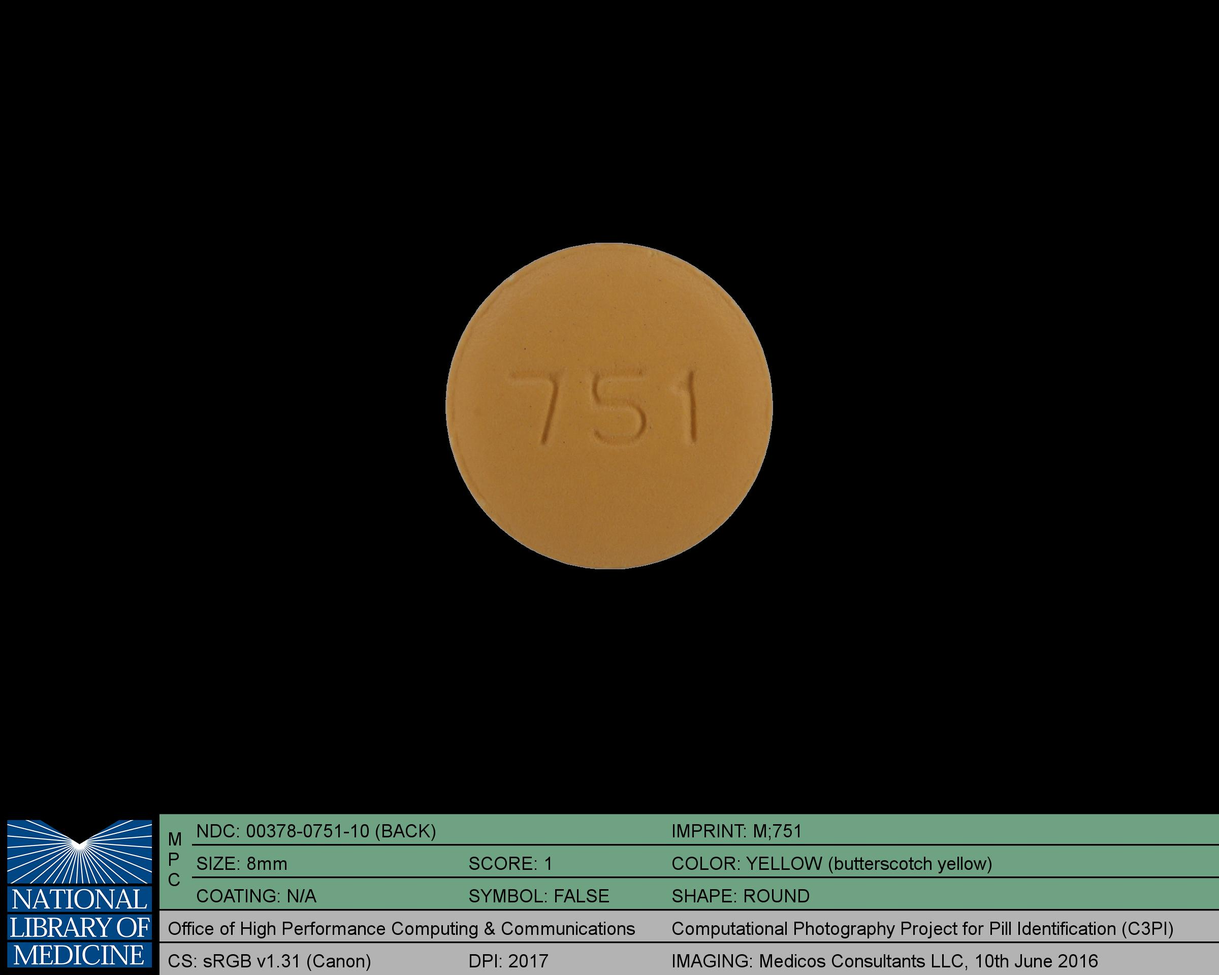Pill: (433, 230, 782, 576)
